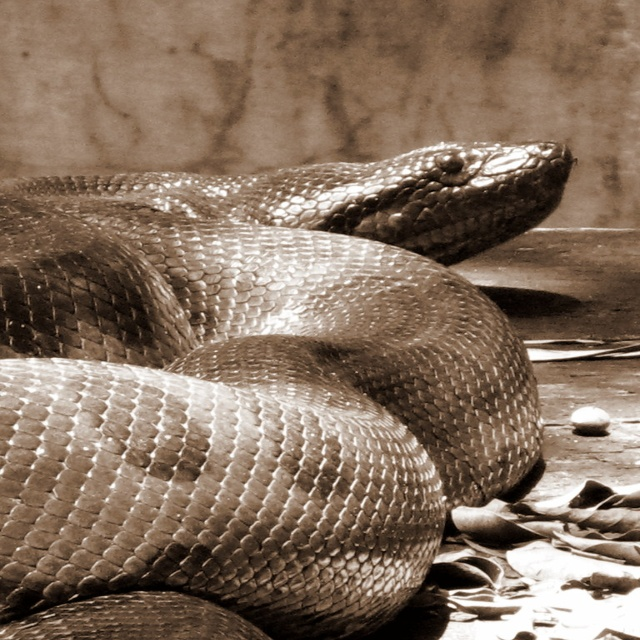Snake: (0, 141, 580, 639)
